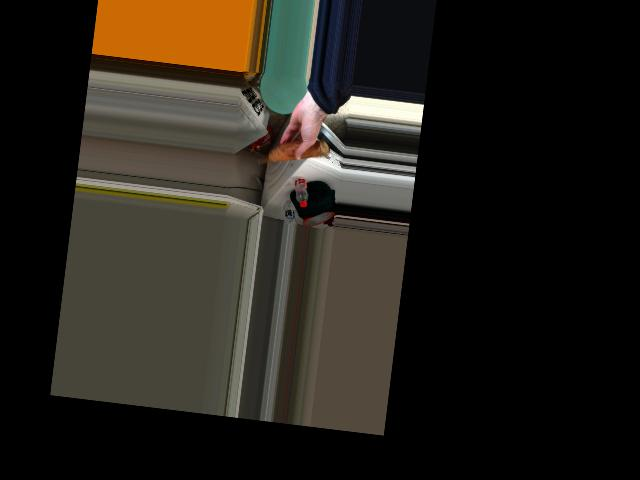sweet_potato: (259, 131, 327, 174)
